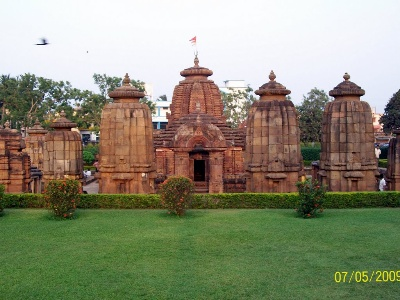amalaka: (101, 79, 156, 105), (250, 76, 297, 104), (41, 109, 86, 137), (321, 77, 368, 103), (170, 61, 223, 80)
gopuram: (93, 103, 163, 184), (314, 98, 382, 175), (165, 78, 240, 146), (243, 99, 302, 175), (35, 124, 88, 186)
torana: (171, 117, 235, 204)
